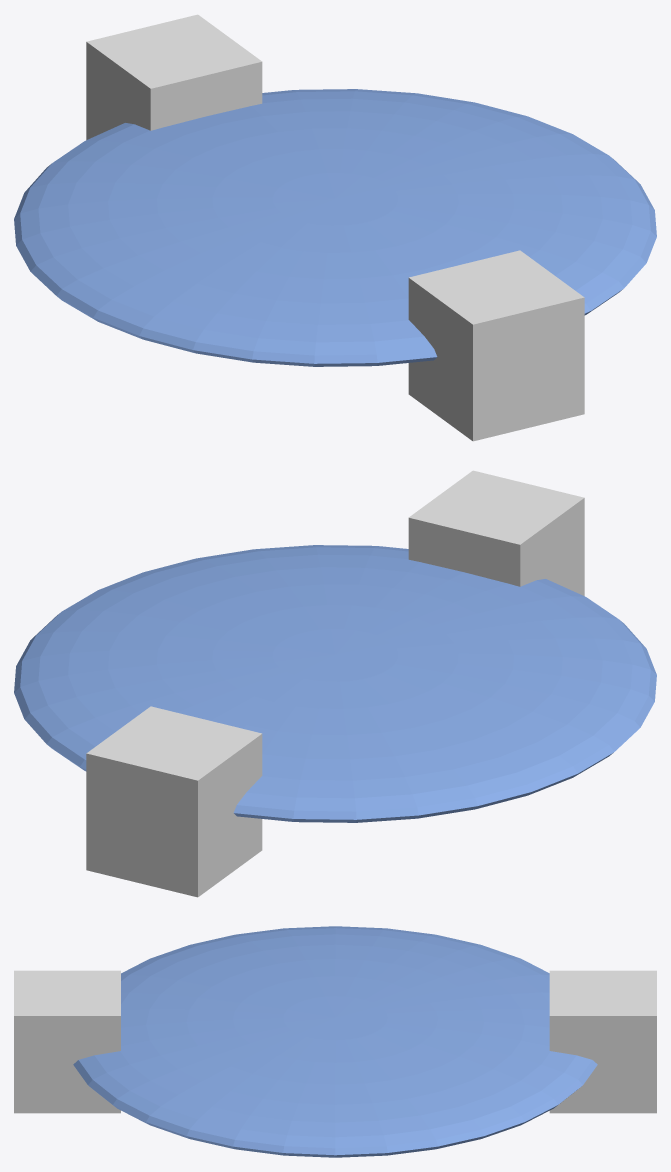
File: example-embedded.gltf
3 renders of one model, top to bottom at view 1: azimuth 30°, elevation 25°; view 2: azimuth 150°, elevation 25°; view 3: azimuth 270°, elevation 25°, orthographic. The views are drawn at different scales.
Parts seen in each view (by area): view 1: Sphere, Cube, Cube.001; view 2: Sphere, Cube.001, Cube; view 3: Sphere, Cube.001, Cube.
Boxes of the visible parts, bbox=[...] form: Sphere: bbox=[14, 89, 656, 366]; Cube: bbox=[408, 250, 584, 441]; Cube.001: bbox=[86, 14, 262, 139]; Sphere: bbox=[14, 545, 656, 822]; Cube.001: bbox=[86, 706, 262, 897]; Cube: bbox=[408, 470, 584, 595]; Sphere: bbox=[73, 926, 597, 1157]; Cube.001: bbox=[549, 970, 656, 1113]; Cube: bbox=[14, 970, 120, 1113].
Size of the model in its own units: 10 by 2 by 12.
